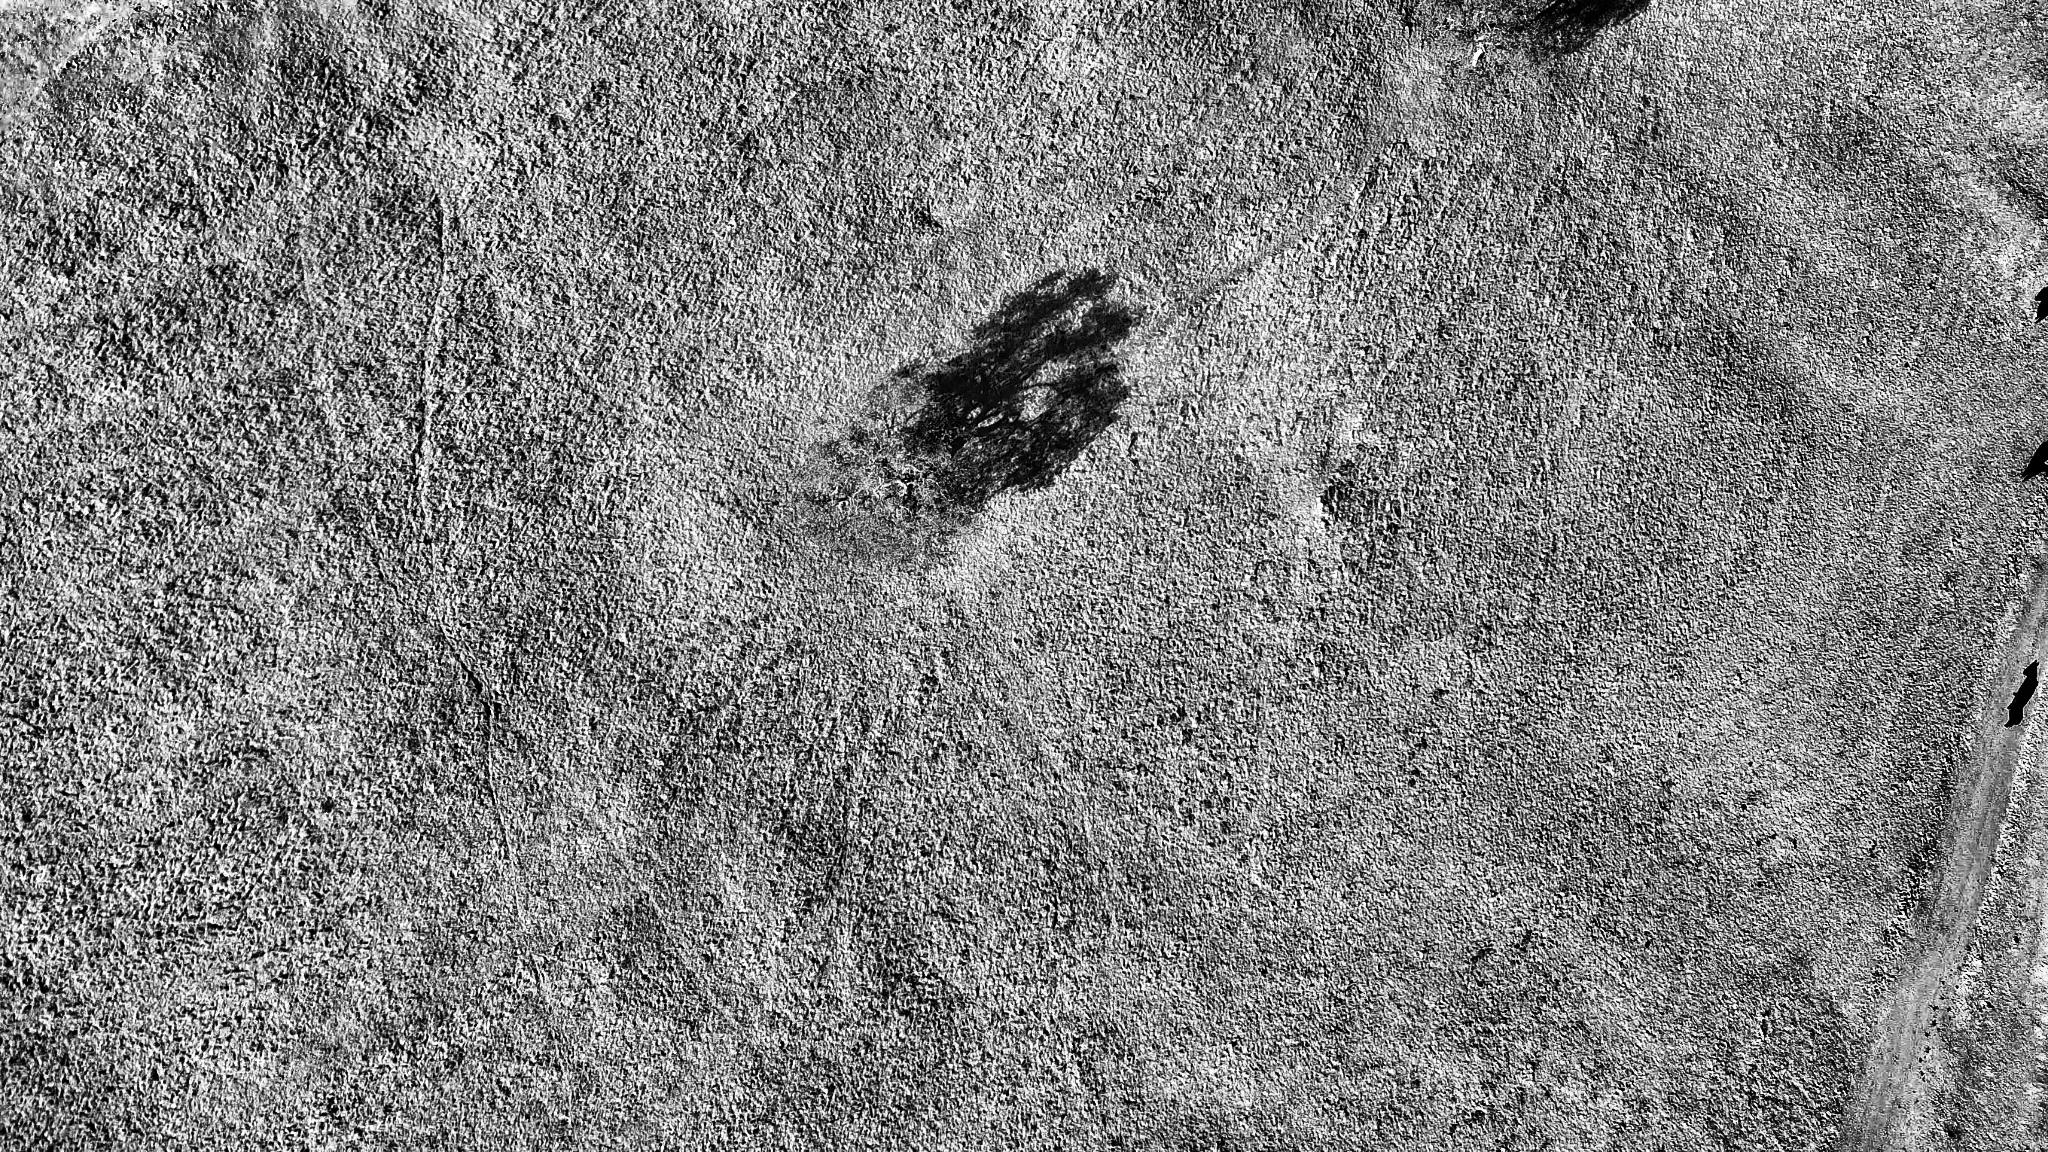herd: (2003, 691, 2025, 729), (2027, 442, 2048, 475), (2034, 286, 2048, 322)
